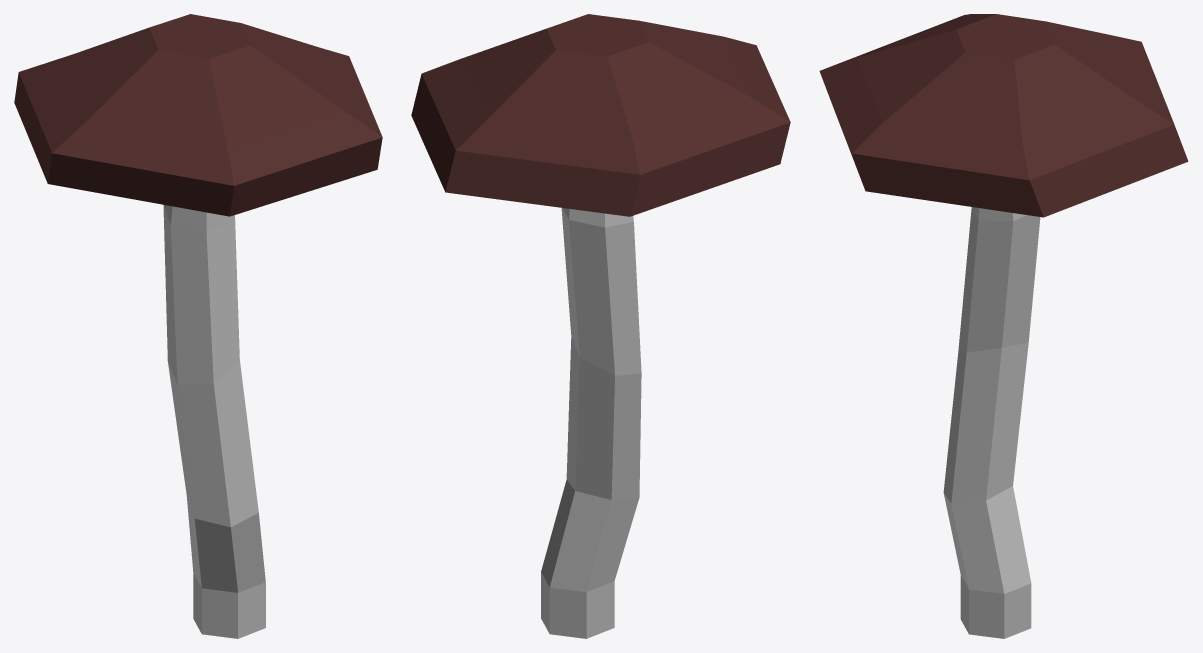
The model's file is BrownMushroomItem.fbx.
The picture shows the model from 3 angles, left to right: view 1: azimuth 30°, elevation 25°; view 2: azimuth 150°, elevation 25°; view 3: azimuth 270°, elevation 25°; orthographic projection. The views are drawn at different scales.
Visible parts, largest first — view 1: Mushroom; view 2: Mushroom; view 3: Mushroom.
Part boxes in pixels (left/top/right/bottom): Mushroom: left=14, top=14, right=382, bottom=638; Mushroom: left=411, top=14, right=790, bottom=638; Mushroom: left=819, top=14, right=1188, bottom=638.
Bounding box in the file's own units: 36.38 × 61.59 × 35.75.
